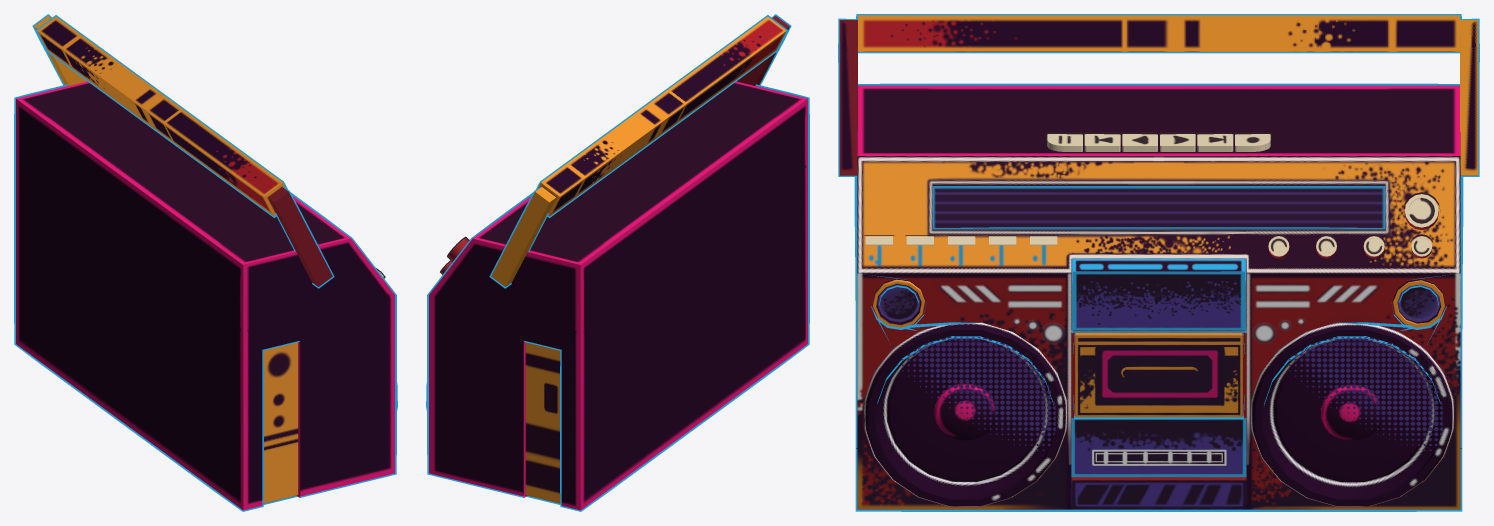
File: neon_boombox.glb
The picture shows the model from 3 angles, left to right: view 1: azimuth 30°, elevation 25°; view 2: azimuth 150°, elevation 25°; view 3: azimuth 270°, elevation 25°; orthographic projection. The views are drawn at different scales.
Parts seen in each view (by area): view 1: boombox_2; view 2: boombox_2; view 3: boombox_2, dizzering_4, buttons_3.
Boxes of the visible parts, box(x1,y1,x2,y2) form: boombox_2: box(14, 14, 397, 511); boombox_2: box(426, 14, 809, 511); boombox_2: box(838, 14, 1479, 511); dizzering_4: box(896, 336, 1442, 455); buttons_3: box(864, 132, 1440, 258).
Bounding box in the file's own units: 0.7242 × 1.39 × 1.9.
Materials: 4 (2 with a texture image).
